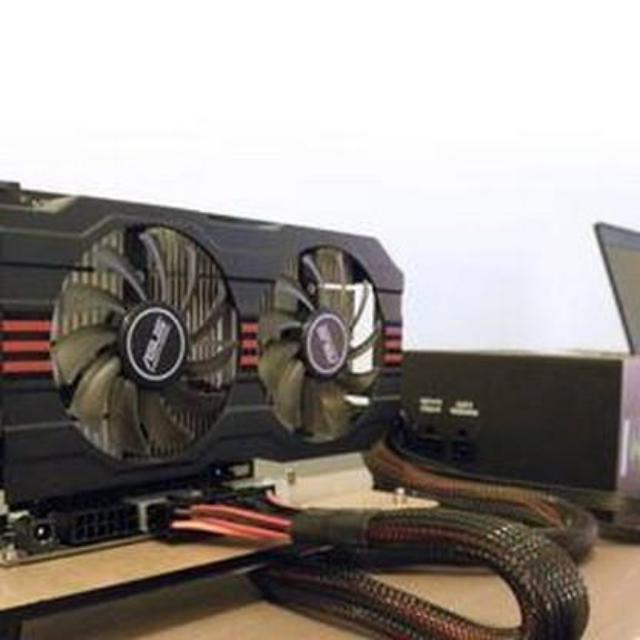GPU: (0, 178, 408, 504)
PSU: (394, 336, 640, 516)
